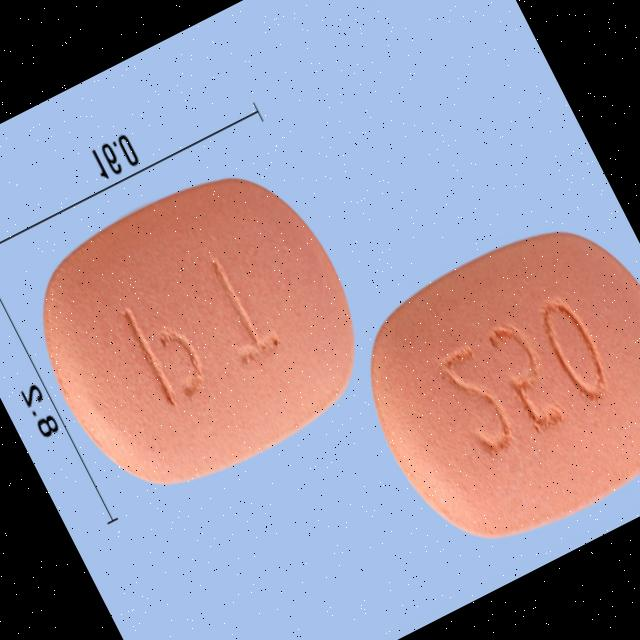Urolevo Tab: (3, 143, 396, 523), (331, 194, 640, 575)
